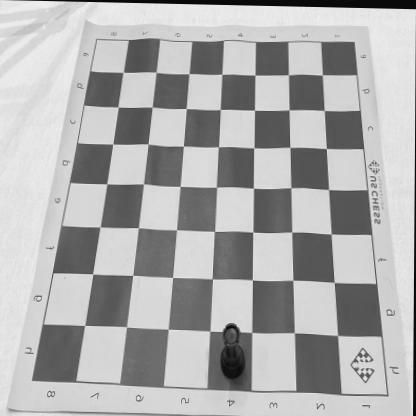black-rook: (219, 321, 247, 379)
